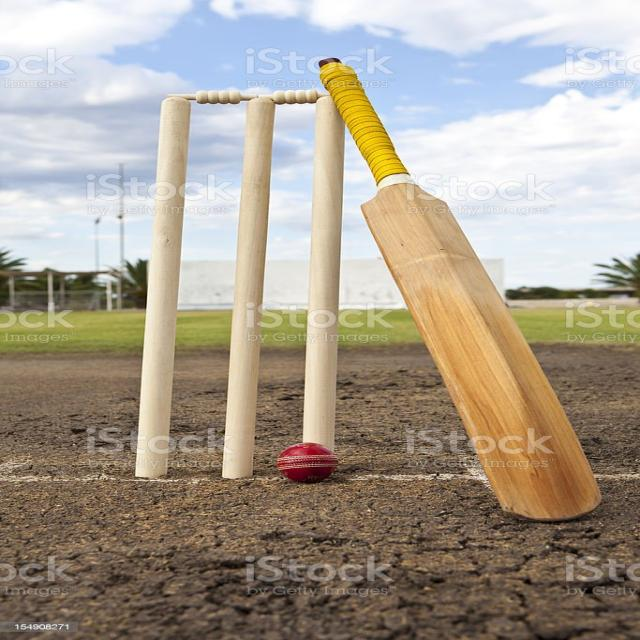stump: (131, 90, 347, 478)
